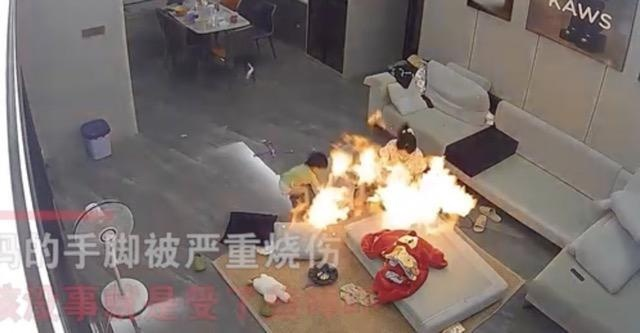fire: (295, 128, 479, 248)
